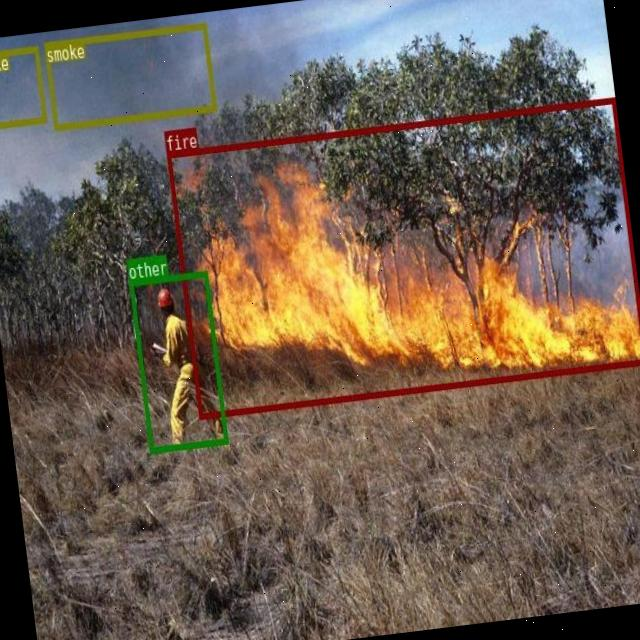fire: (166, 95, 640, 417)
smoke: (43, 22, 216, 129), (0, 44, 46, 129)
